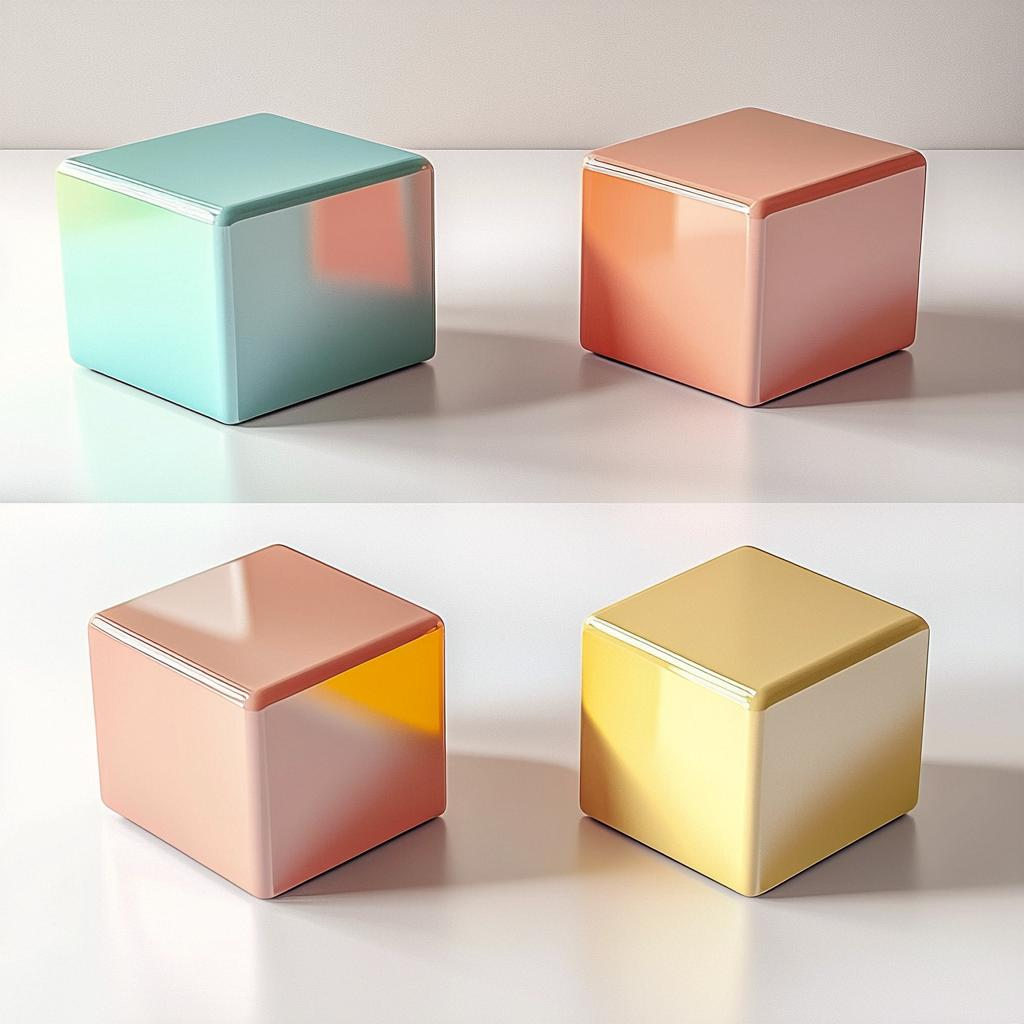cube: (86, 541, 447, 899), (578, 543, 930, 897), (54, 110, 436, 425), (578, 104, 927, 407)
